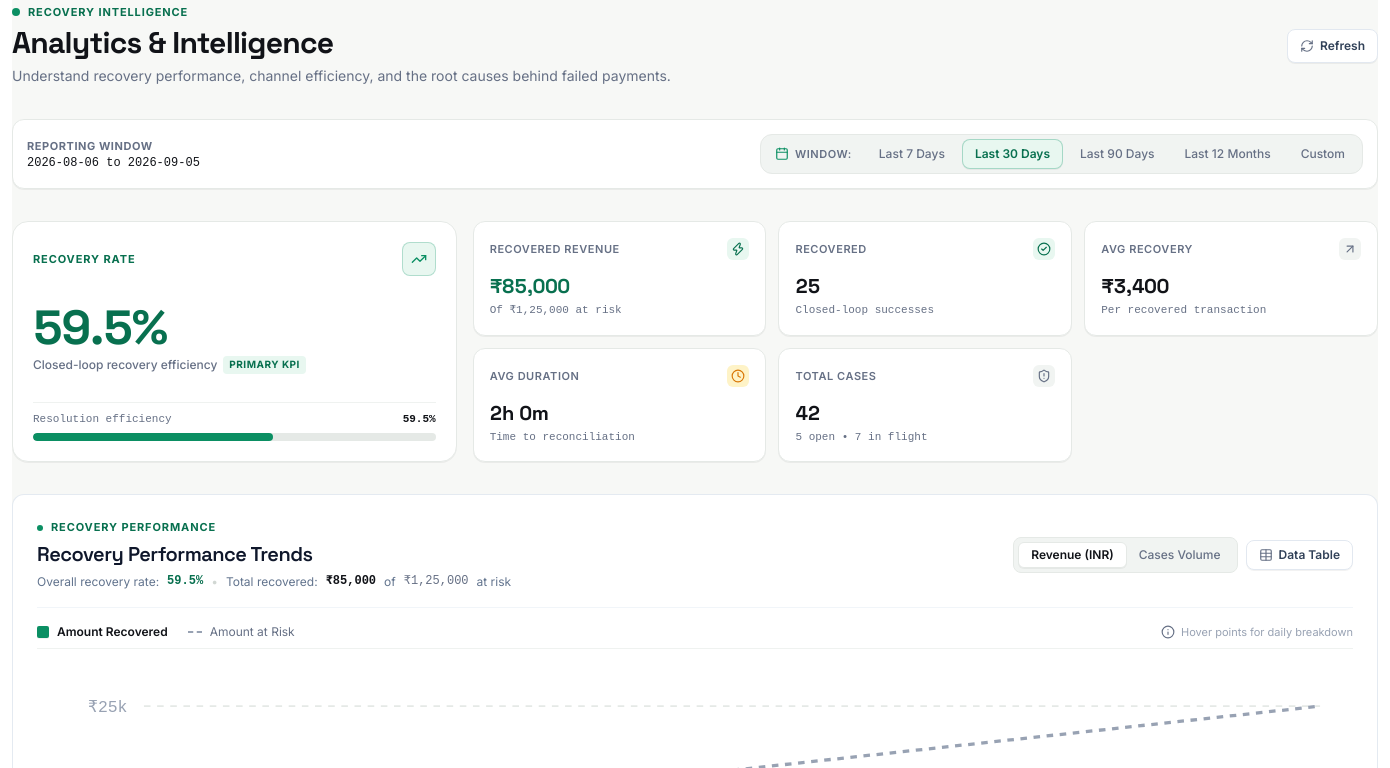
Test: AnalyticsPage Redesign - Premium Payment Recovery Intelligence Console › allows toggling between visual chart and accessible data table view
expect the heading "Recovery Performance Trends" is shown: met, box [37, 541, 312, 567]
Step 1. Click the button "Data Table" → (1299, 555), box [1246, 540, 1353, 570]
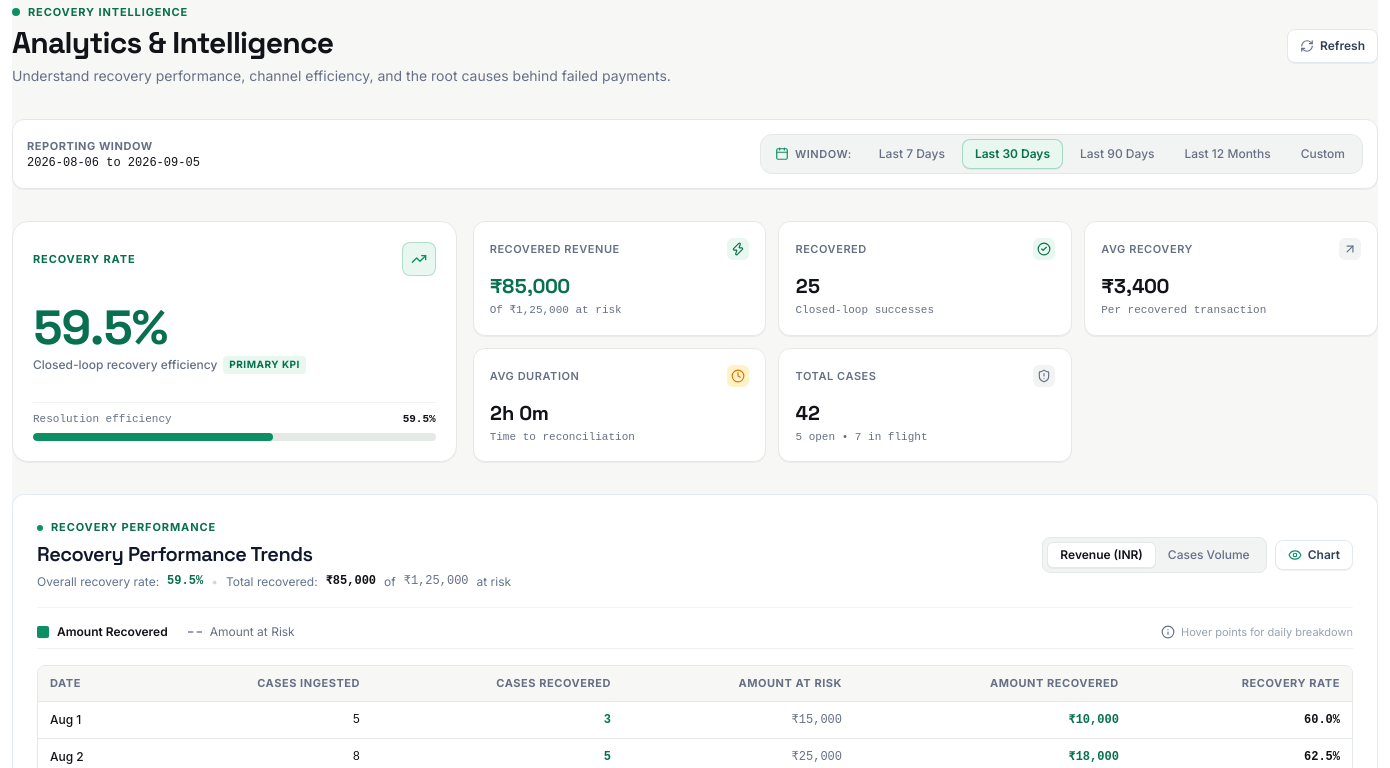
expect the text "Amount at Risk" is shown: met, box [210, 624, 295, 640]
expect the column heading "Cases Ingested" is shown: met, box [142, 666, 372, 702]
expect the column heading "Cases Recovered" is shown: met, box [372, 666, 623, 702]
